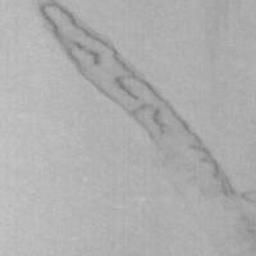Water spot: (38, 1, 256, 256)
